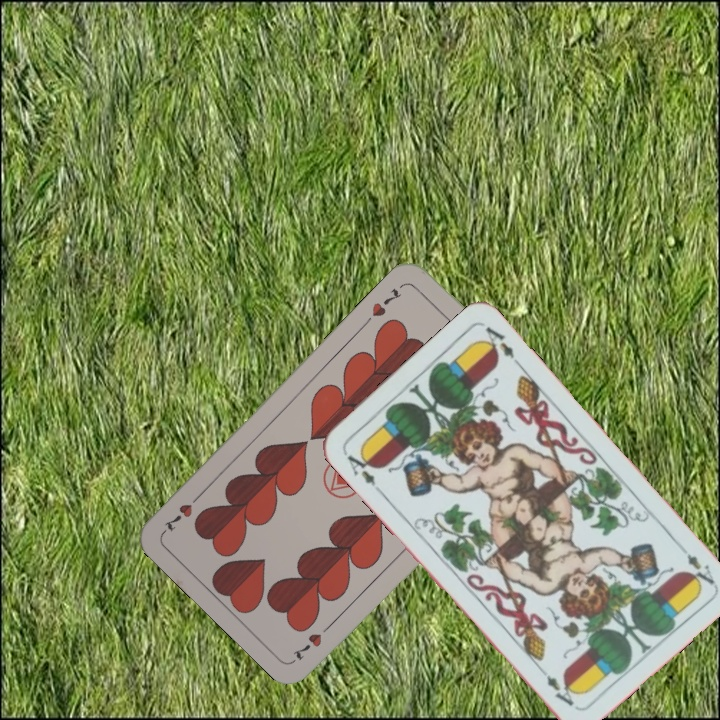EA: (339, 446, 384, 494), (682, 549, 717, 591)
H7: (288, 618, 336, 663), (368, 284, 405, 320)
